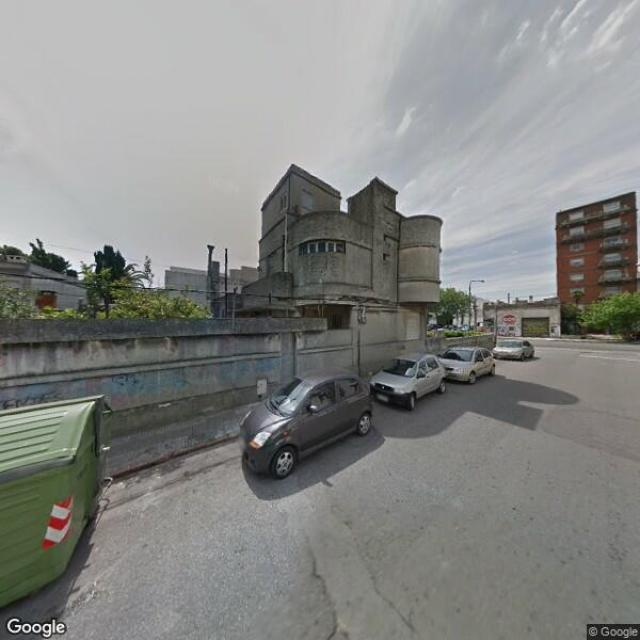garbage container: (2, 381, 147, 619)
